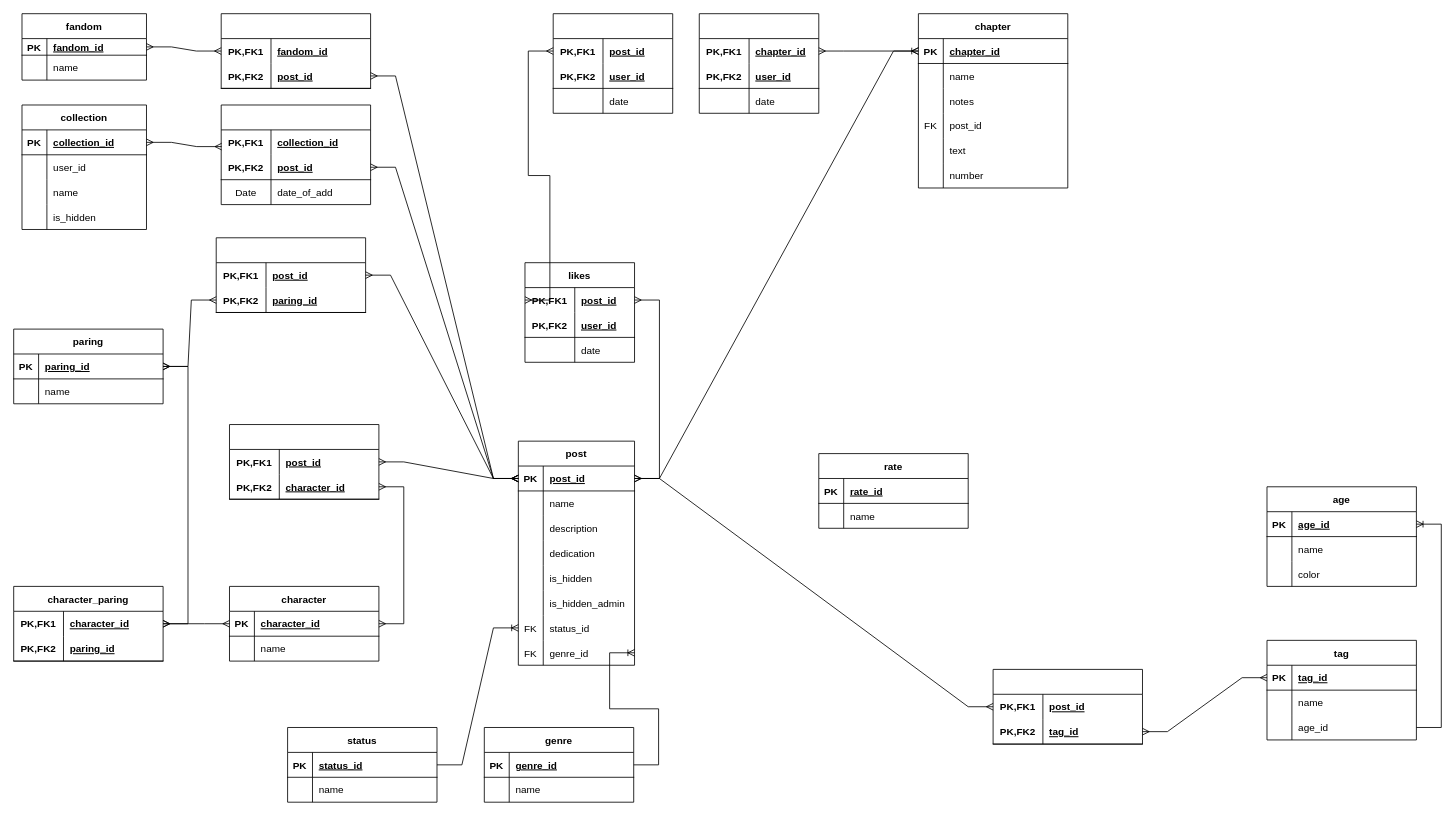
Image size: 1455x816. Some labels were removed from this diagram. Here are the shapes that lost their labels. From the top down, the box of each, then its label:
(220, 13, 371, 88): fandom_post
(552, 13, 673, 113): read_post
(698, 13, 819, 113): read_chapter
(220, 104, 371, 205): collection_post
(215, 237, 366, 312): paring_post
(229, 424, 379, 499): character_post
(992, 669, 1142, 744): post_tag
